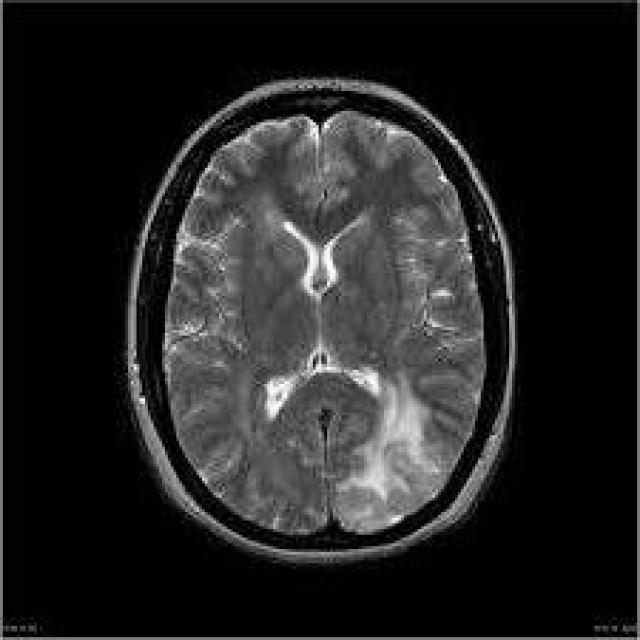notumor: (125, 80, 509, 563)
